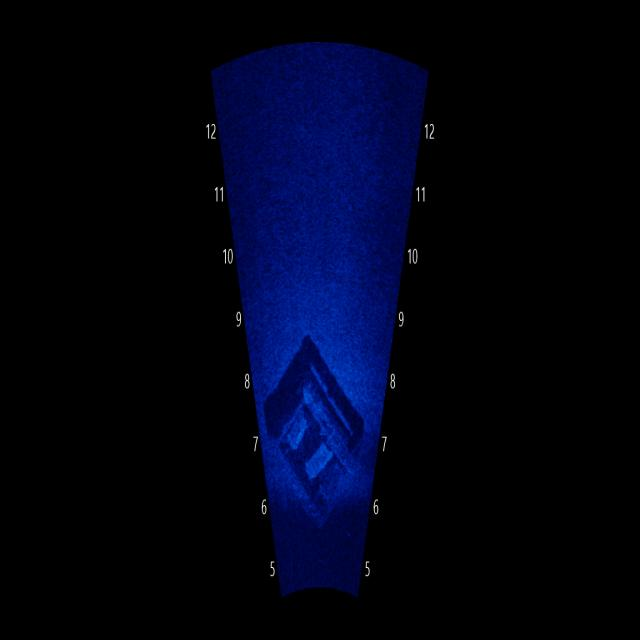square: (254, 326, 373, 528)
